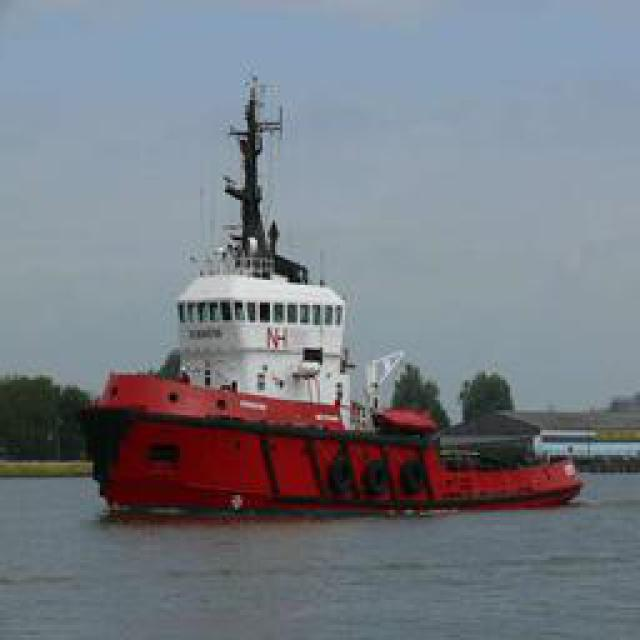Ship: (80, 70, 560, 515)
